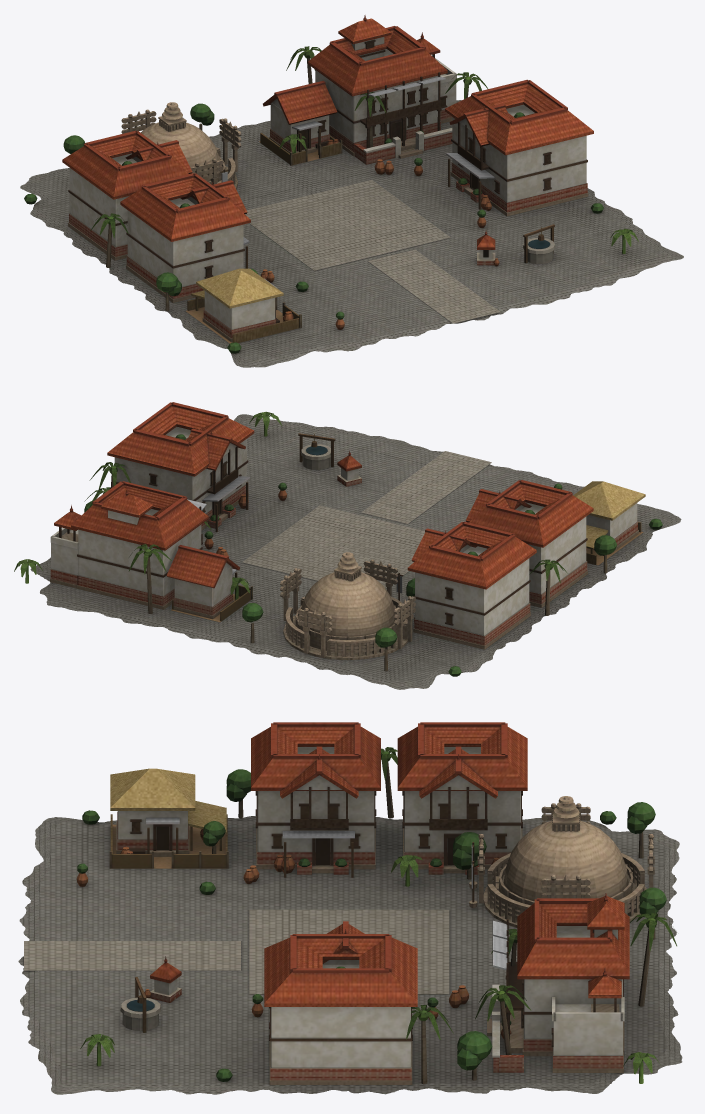
File: classical-town-small-a-indic-29a592bb.glb
The picture shows the model from 3 angles, top to bottom: view 1: azimuth 30°, elevation 25°; view 2: azimuth 150°, elevation 25°; view 3: azimuth 270°, elevation 25°; orthographic projection. The views are drawn at different scales.
Visible parts, largest first — view 1: LOD0; view 2: LOD0; view 3: LOD0.
Boxes of the visible parts, x1=… form: LOD0: x1=20, y1=15, x2=683, y2=367; LOD0: x1=14, y1=402, x2=681, y2=689; LOD0: x1=18, y1=722, x2=682, y2=1094.
Size of what is drawn, in the model's own units: 4.08 by 0.934 by 4.06.
3 materials, 3 textured.
